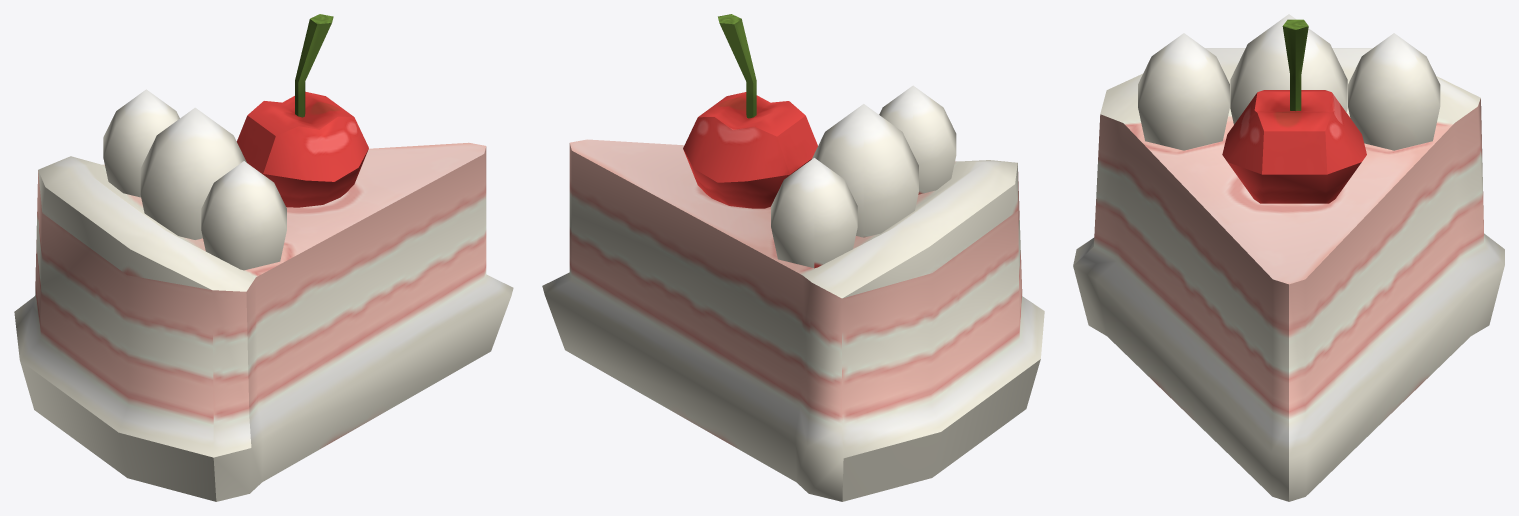
The model's file is cream cake.FBX.
3 renders of one model, left to right at view 1: azimuth 30°, elevation 25°; view 2: azimuth 150°, elevation 25°; view 3: azimuth 270°, elevation 25°, orthographic. The views are drawn at different scales.
Visible parts, largest first — view 1: cream cake; view 2: cream cake; view 3: cream cake.
Boxes of the visible parts, <box> form: cream cake: <box>14,14,513,501</box>; cream cake: <box>542,14,1044,501</box>; cream cake: <box>1073,14,1504,501</box>.
Size of the model in its own units: 5.09 by 3.97 by 3.99.
